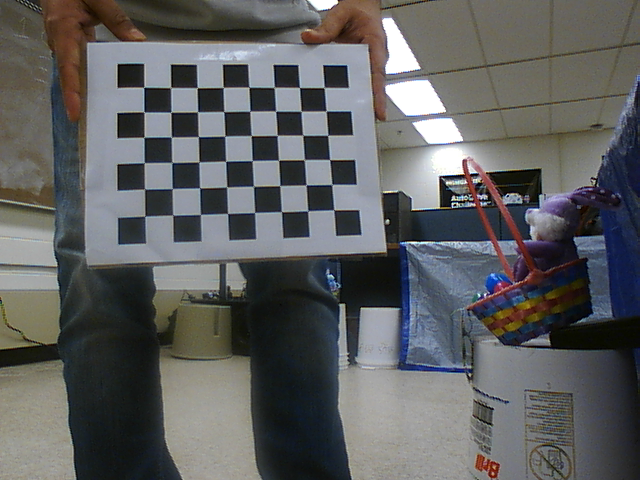bunny: (453, 153, 606, 346)
